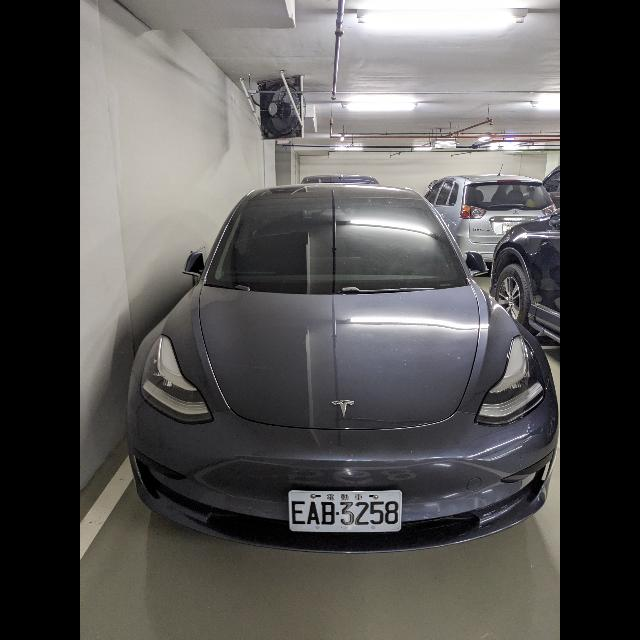plate: (288, 490, 402, 531)
